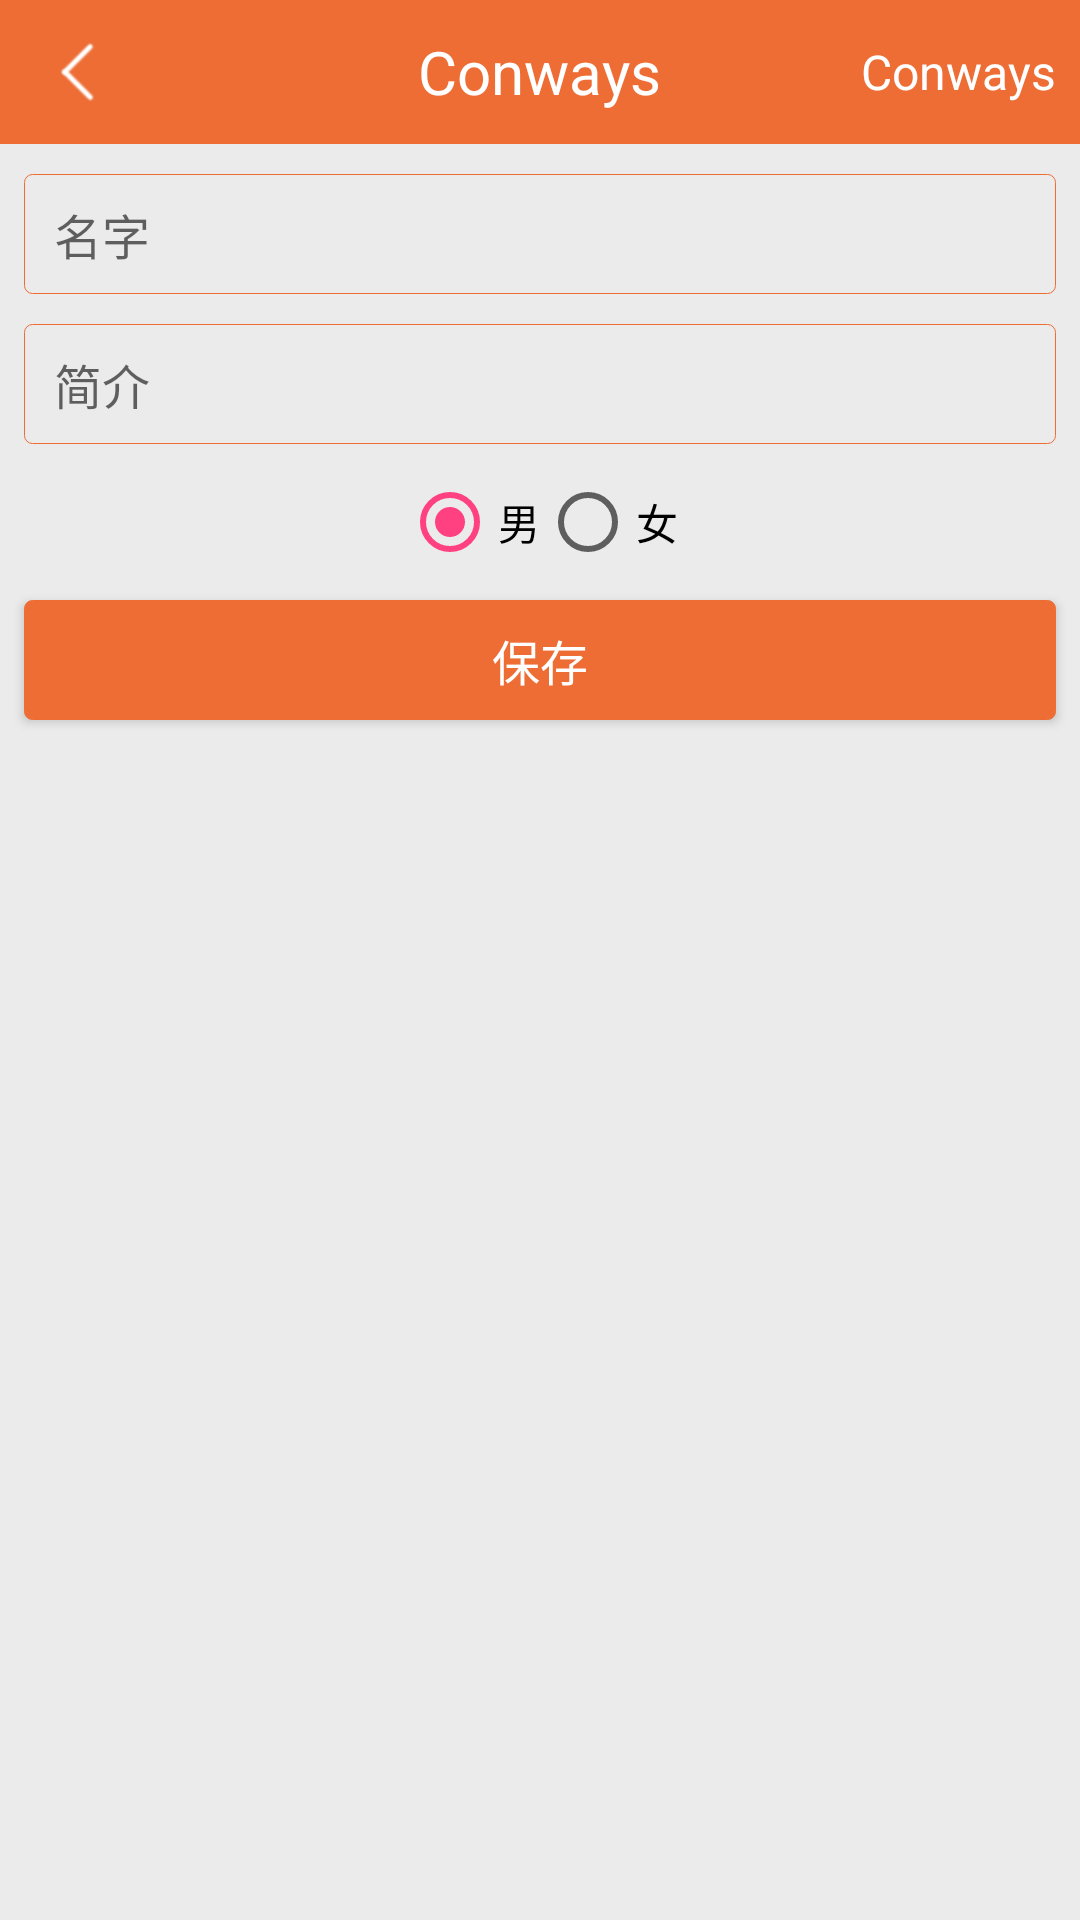

Where icons sit on this 1080 x 1920 app screen, as (left=x1, top=y1, right=x2, bottom=y2):
arrow back: (left=61, top=43, right=94, bottom=101)
